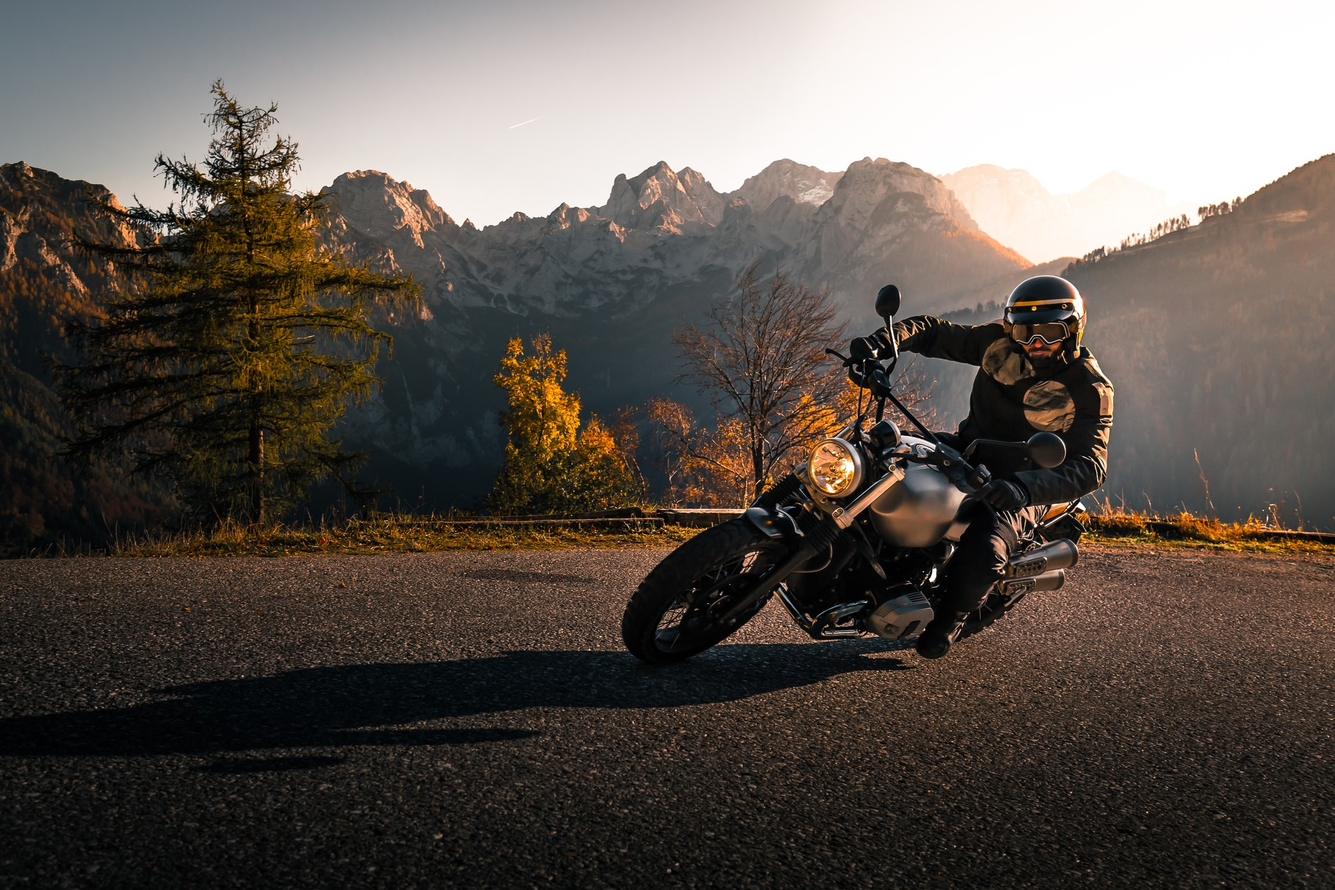Motorcycle: (603, 373, 1120, 667)
Tree: (102, 80, 412, 552)
